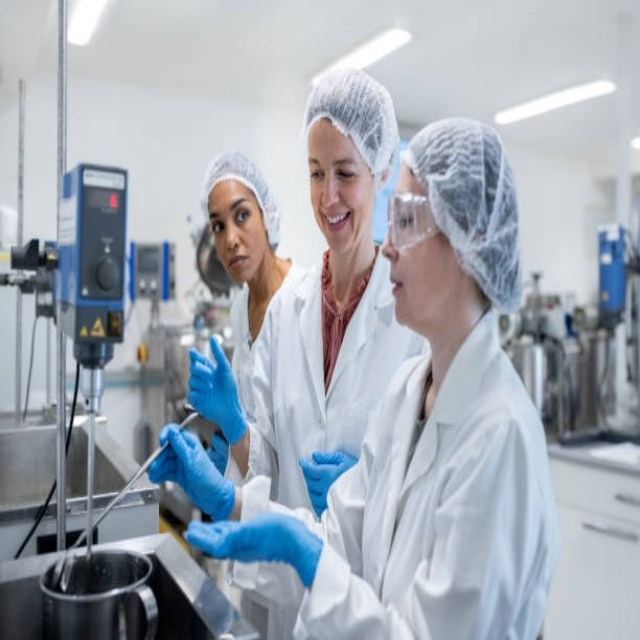Gafas: (386, 192, 442, 253)
Guantes: (187, 504, 321, 587), (145, 425, 234, 511), (186, 333, 247, 436), (297, 442, 363, 511)
Sin_gafas: (307, 149, 359, 191), (212, 191, 253, 235)
Sin_mascara: (384, 265, 422, 326), (317, 204, 351, 242), (223, 249, 250, 275)
